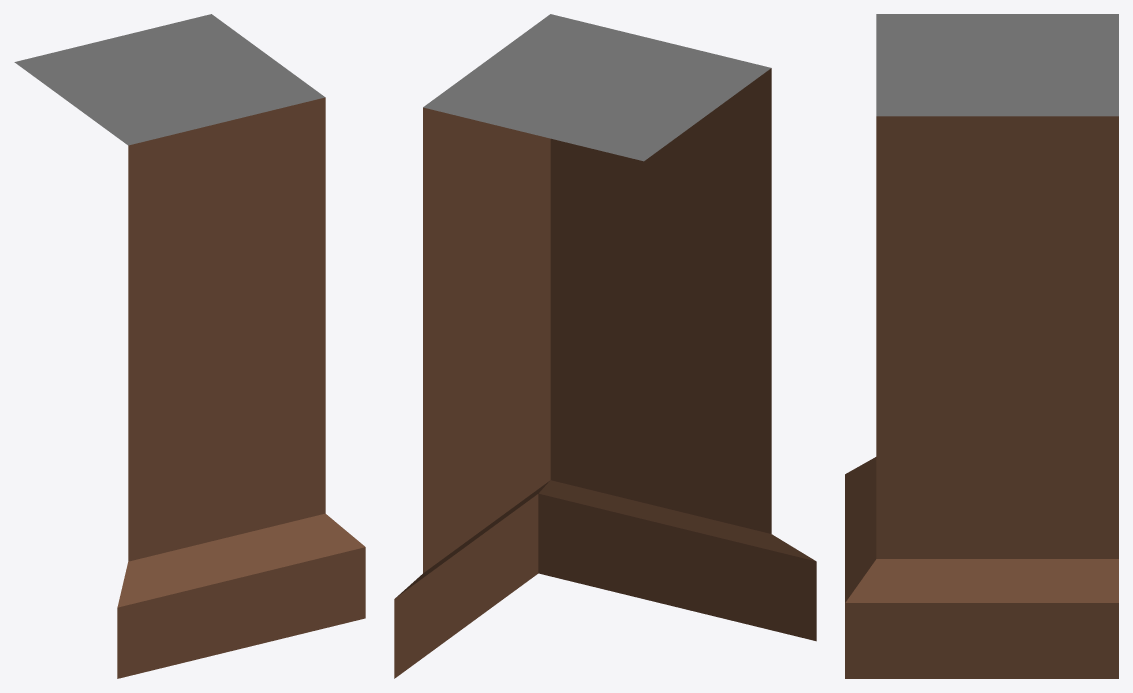
The model's file is Wall_Stone_TwoSidedCorner.fbx.
3 views of the same model, side by side, from view 1: azimuth 30°, elevation 25°; view 2: azimuth 150°, elevation 25°; view 3: azimuth 270°, elevation 25° (orthographic). The views are drawn at different scales.
Visible parts, largest first — view 1: pPlane34; view 2: pPlane34; view 3: pPlane34.
Part boxes in pixels (x1,y1,x2,y2): pPlane34: (14, 14, 365, 678); pPlane34: (394, 14, 816, 678); pPlane34: (845, 14, 1118, 678).
Size of the model in its own units: 126 by 250 by 113.
1 material, 1 textured.
